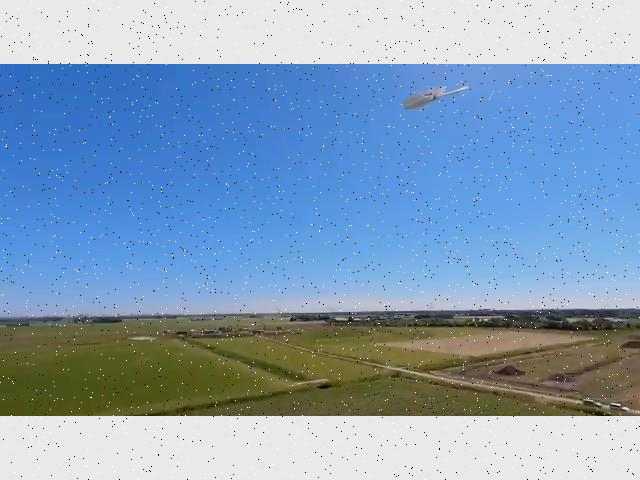Anti-Drone: (389, 79, 471, 121)
